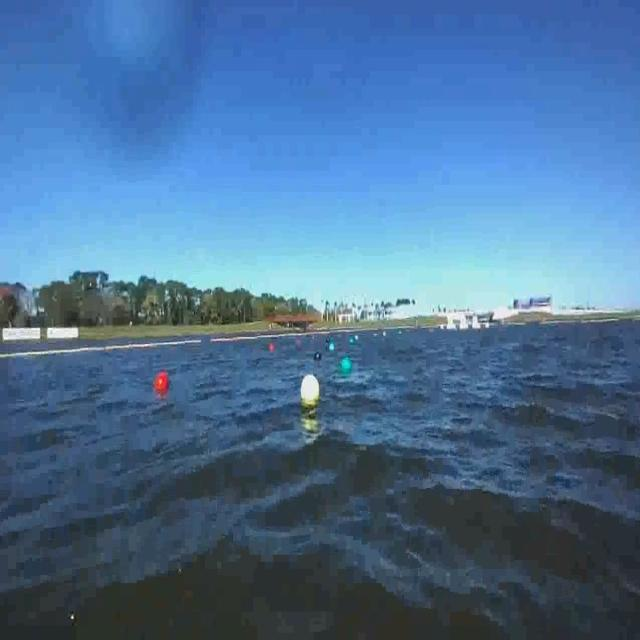black-buoy: (315, 350, 322, 366)
green-buoy: (342, 355, 354, 375)
red-buoy: (155, 370, 170, 392)
yellow-buoy: (299, 372, 318, 406)
